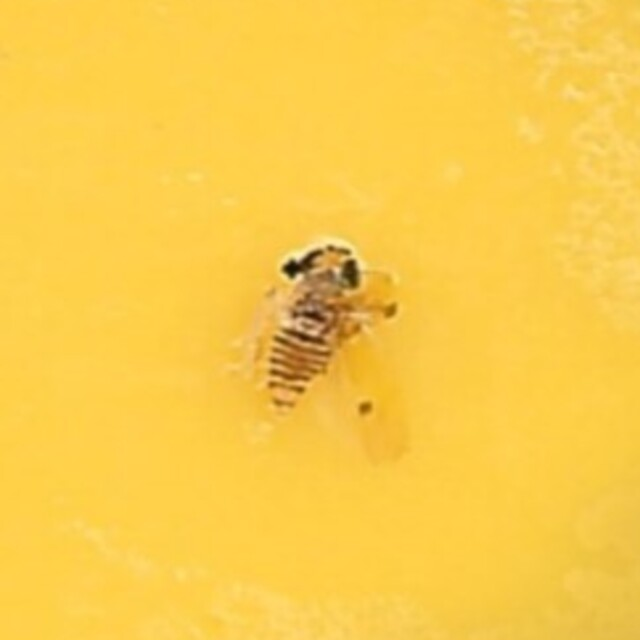Hemiptera: (264, 230, 376, 410)
